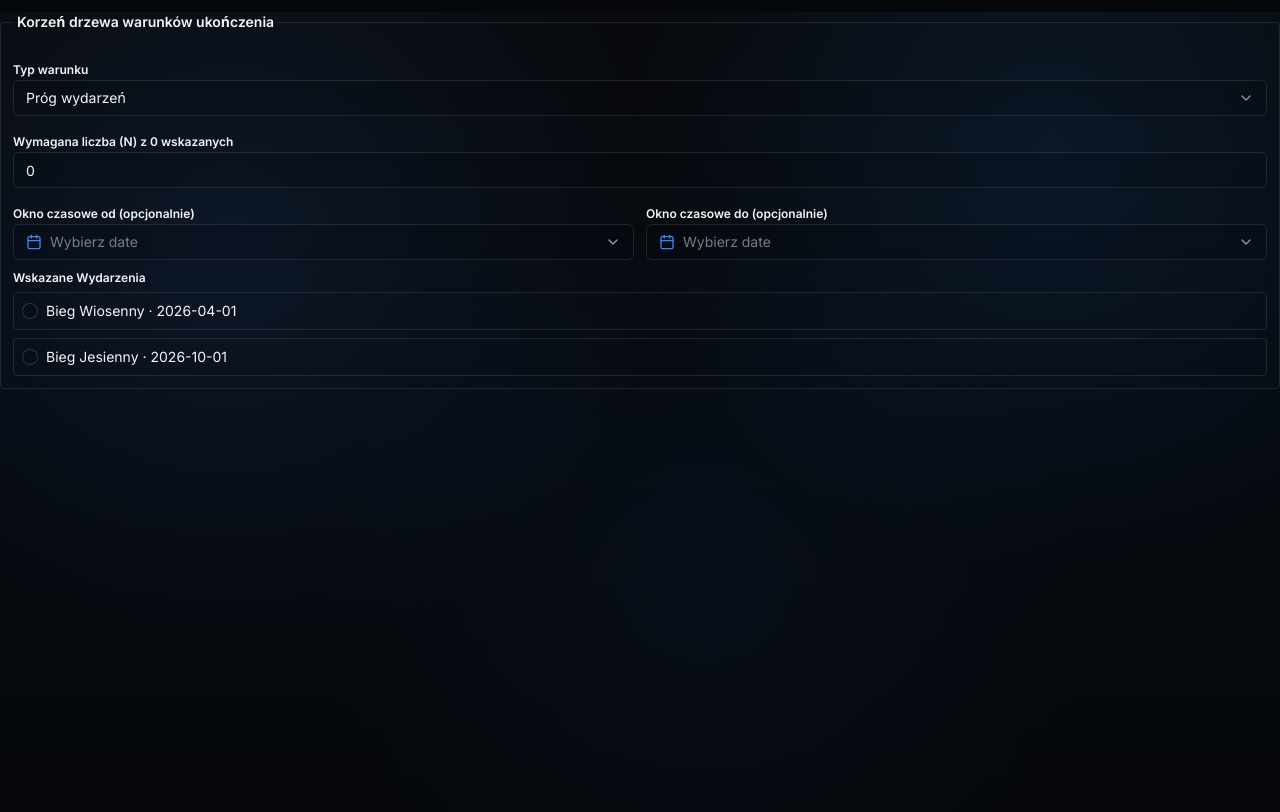
Test: ChallengeConditionTreeEditor › switching node type to point_threshold shows its own fields and hides the N-of-M count
The image size is (1280, 812).
Click the dropdown named "Typ warunku".
click(76, 98)  # box [13,80,1267,116]
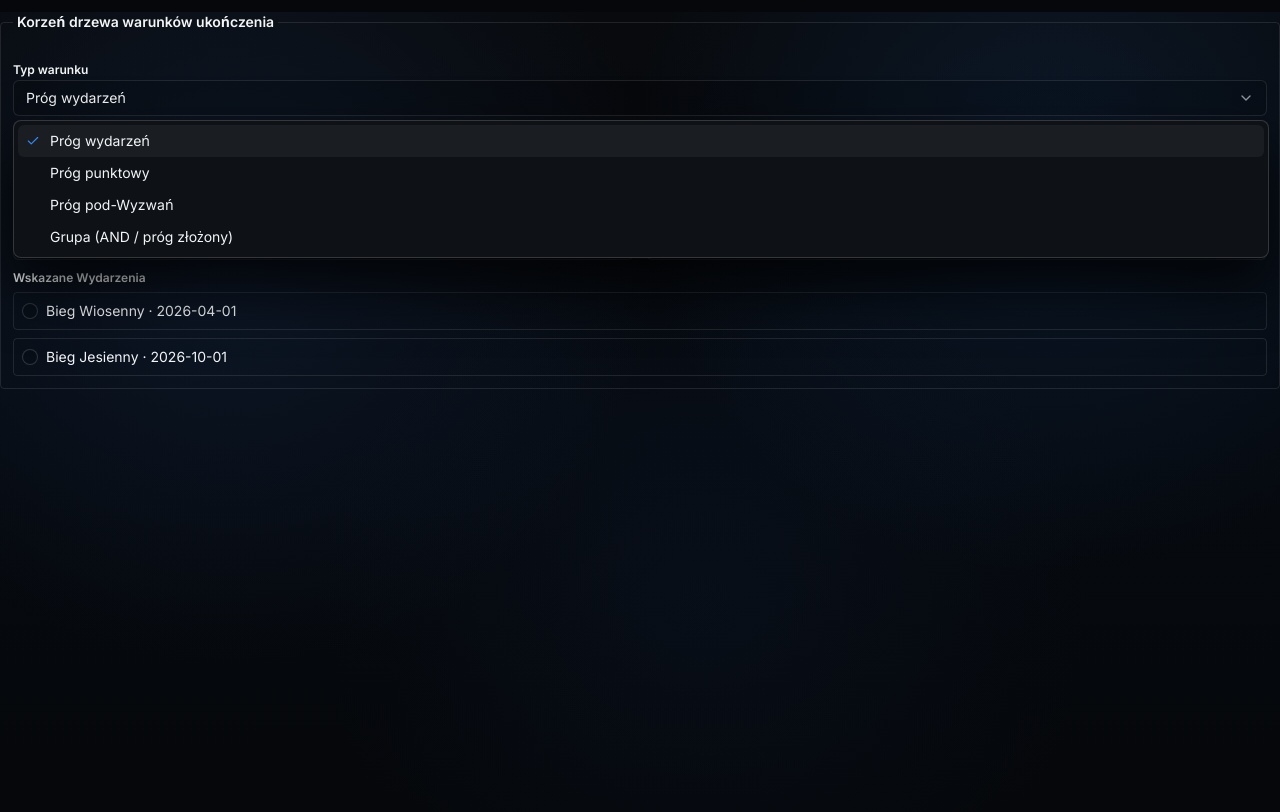
Click the option "Próg punktowy".
click(100, 172)  # box [50,164,150,181]
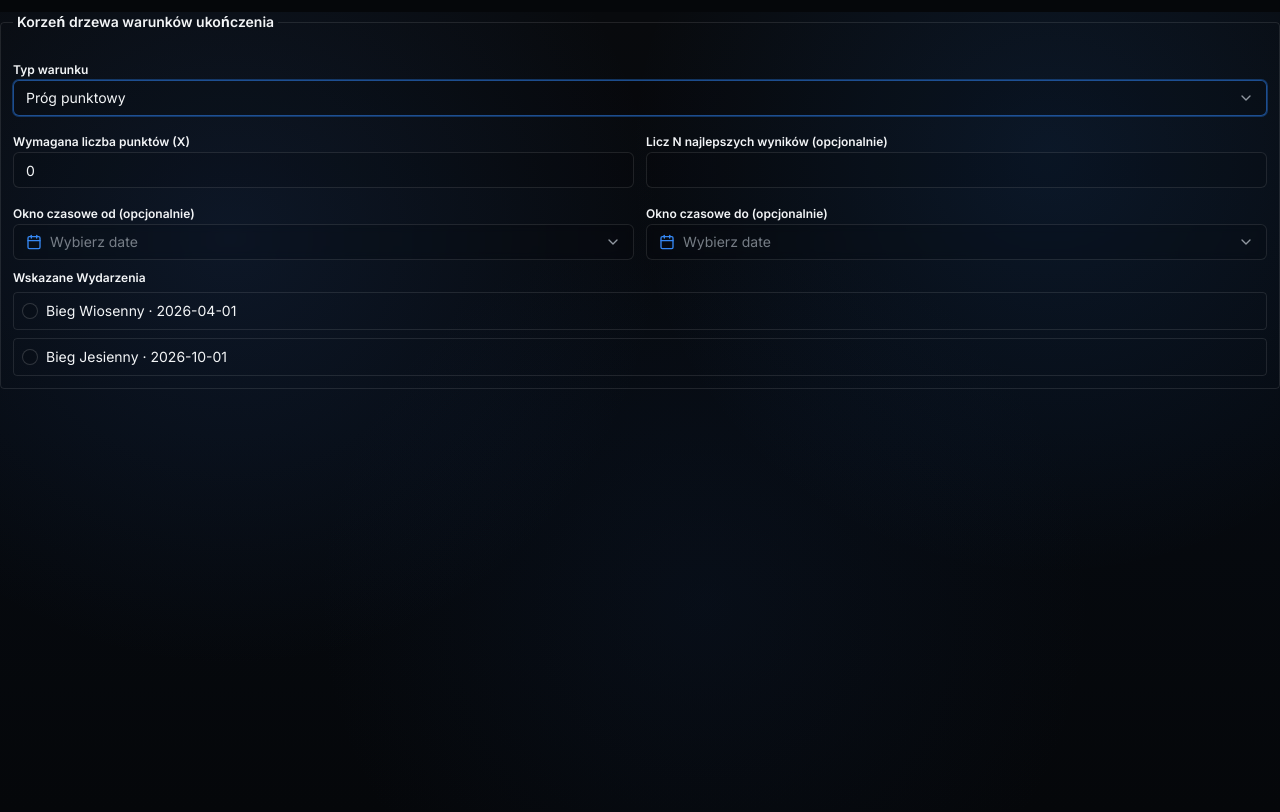
Now the number field labelled "Wymagana liczba punktów (X)" is shown, box [13,152,634,188]
Now the number field labelled "Licz N najlepszych wyników (opcjonalnie)" is shown, box [646,152,1267,188]
Now the label labelled "Wymagana liczba (N)" is gone
